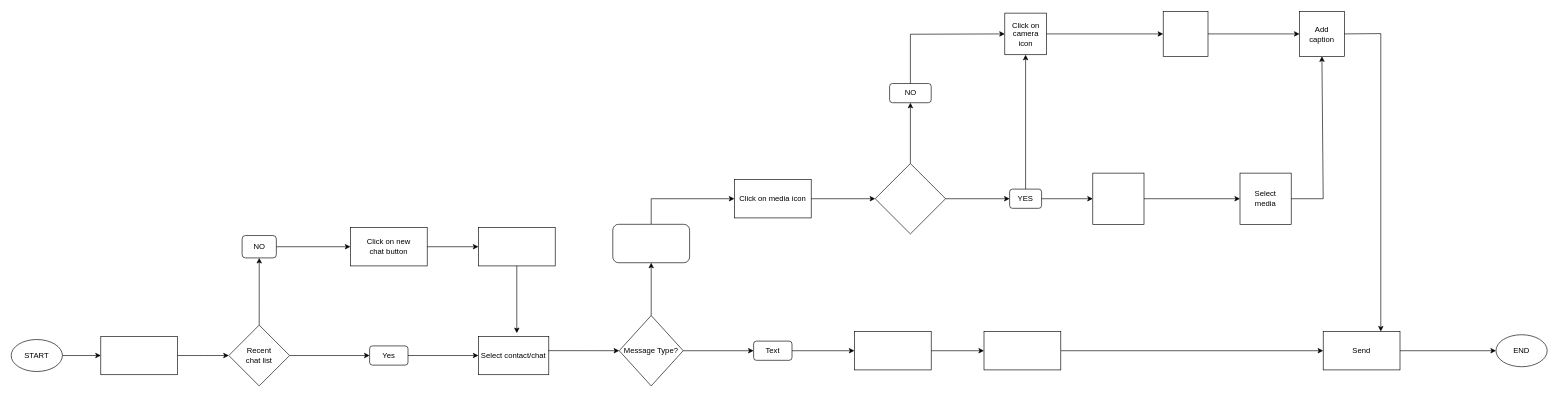
This 1558x397 diagram has some shape labels left out. Here are the shapes that lost their labels. From the top down, the centre of each, then its label:
At point (1185, 33): "Record media".
At point (910, 198): "Media exist?".
At point (1118, 198): "Click on gallery icon".
At point (516, 246): "Search for contact".
At point (651, 243): "Image/Video".
At point (139, 355): "Open Whatsapp".
At point (892, 350): "Type text message".
At point (1022, 350): "Add emojis".
